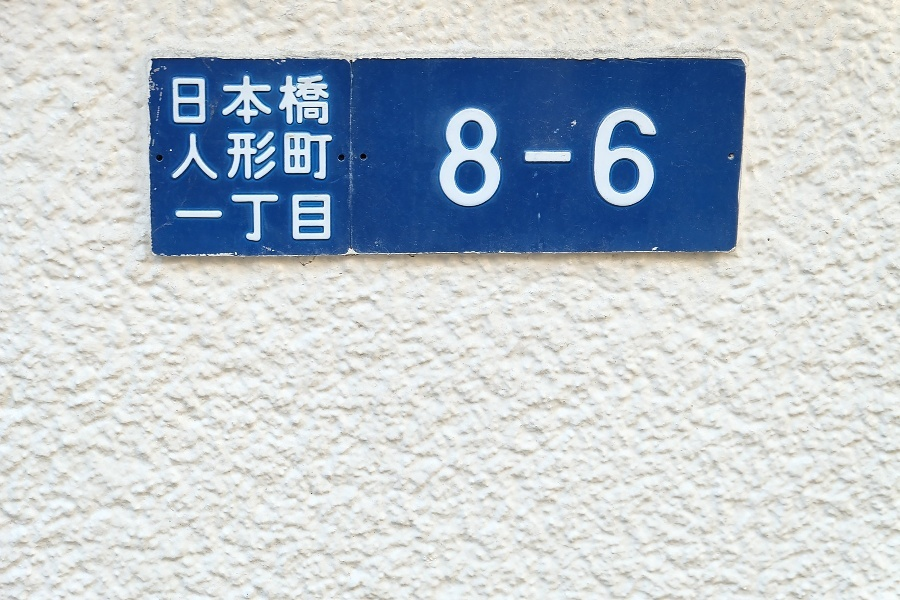text: (449, 104, 464, 216), (465, 104, 480, 216), (481, 104, 496, 216), (497, 104, 512, 216), (513, 104, 528, 216), (529, 104, 544, 216), (545, 104, 560, 216), (561, 104, 576, 216), (577, 104, 592, 216), (593, 104, 608, 216), (609, 104, 624, 216), (625, 104, 640, 216), (641, 104, 656, 216), (177, 73, 192, 126), (193, 73, 208, 126), (209, 73, 224, 126), (225, 73, 240, 126), (241, 73, 256, 126), (257, 73, 272, 126), (273, 73, 288, 126), (289, 73, 304, 126), (305, 73, 320, 126), (177, 191, 192, 244), (193, 191, 208, 244), (209, 191, 224, 244), (225, 191, 240, 244), (241, 191, 256, 244), (257, 191, 272, 244), (273, 191, 288, 244), (289, 191, 304, 244), (305, 191, 320, 244), (321, 191, 336, 244), (193, 134, 208, 182), (209, 134, 224, 182), (225, 134, 240, 182), (241, 134, 256, 182), (257, 134, 272, 182), (273, 134, 288, 182), (289, 134, 304, 182), (305, 134, 320, 182), (321, 134, 335, 182), (321, 73, 330, 126), (657, 104, 661, 216), (169, 73, 176, 126), (445, 104, 448, 216), (187, 134, 192, 182), (173, 191, 176, 244)
